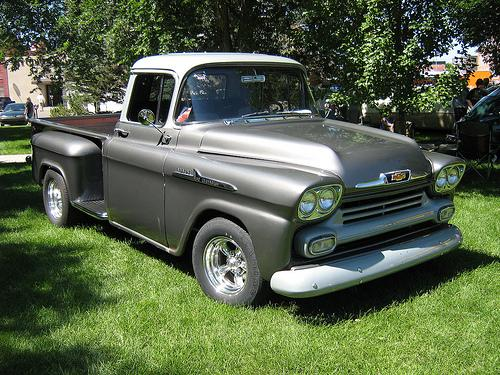truck: (26, 52, 468, 313)
